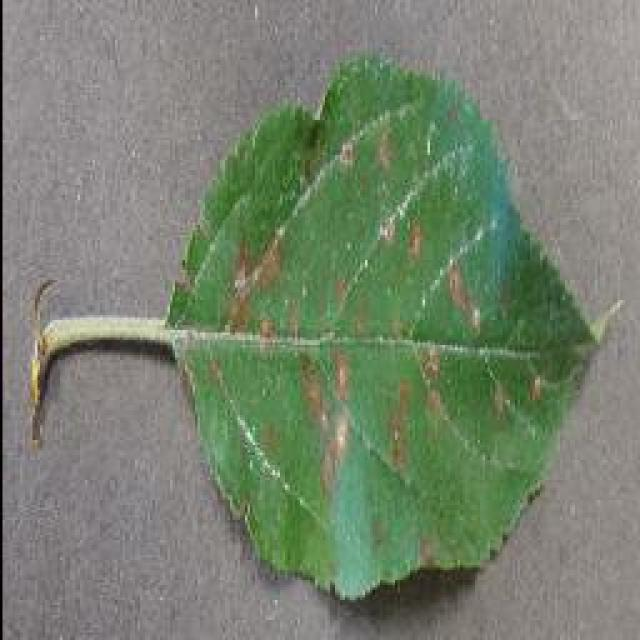Apple___Cedar_apple_rust: (156, 49, 630, 609)
